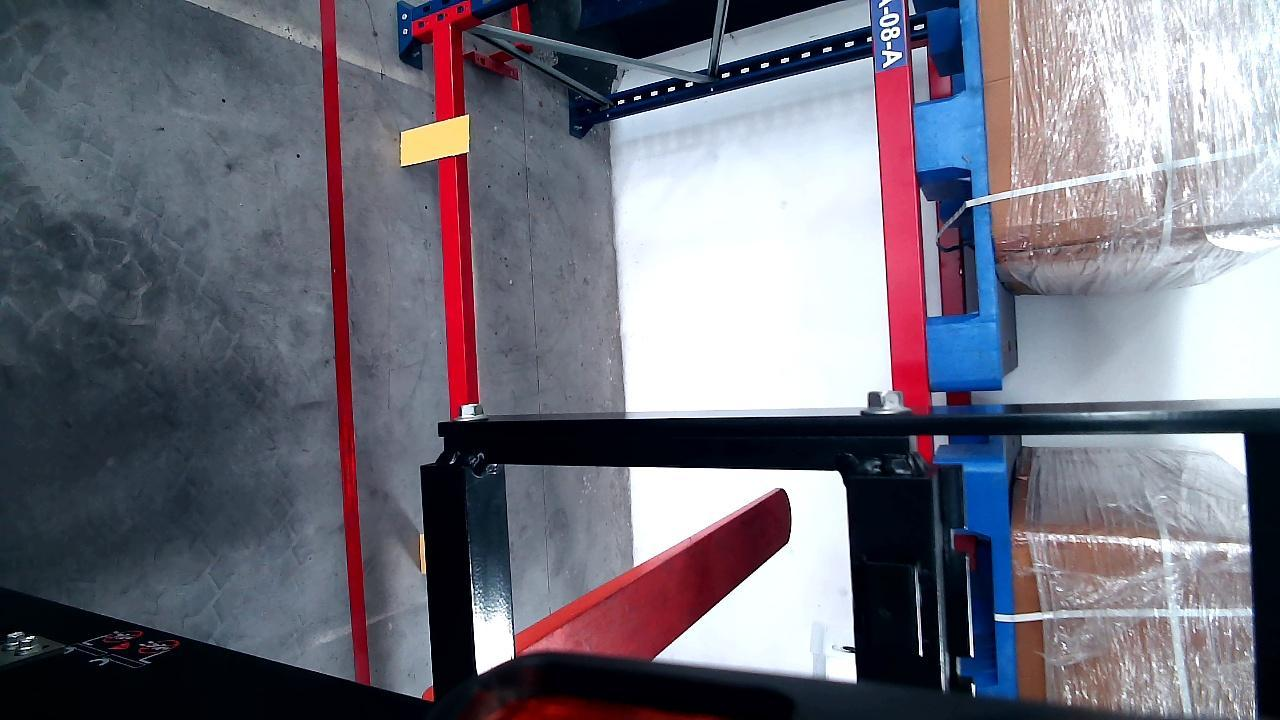red_line: (320, 1, 367, 688)
